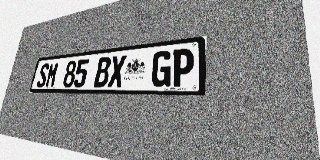5: (73, 59, 89, 87)
8: (62, 60, 78, 87)
B: (93, 56, 112, 87)
G: (150, 50, 172, 87)
M: (45, 62, 59, 87)
P: (171, 48, 194, 87)
S: (36, 63, 50, 88)
X: (107, 55, 127, 87)
